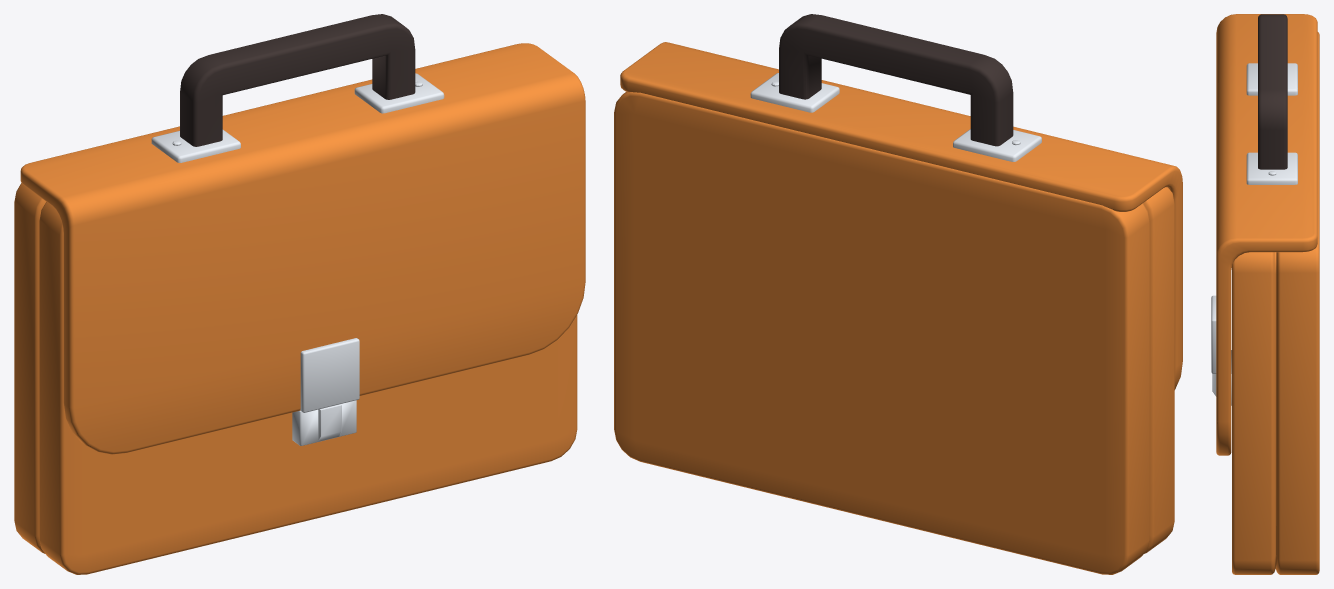
Rendered from briefcase.glb.
3 views of the same model, side by side, from view 1: azimuth 30°, elevation 25°; view 2: azimuth 150°, elevation 25°; view 3: azimuth 270°, elevation 25° (orthographic). The views are drawn at different scales.
Visible parts, largest first — view 1: SM_WorkerBag; view 2: SM_WorkerBag; view 3: SM_WorkerBag.
Part boxes in pixels (<box>): SM_WorkerBag: <box>14,14,585,574</box>; SM_WorkerBag: <box>614,14,1182,574</box>; SM_WorkerBag: <box>1211,14,1319,574</box>.
Size of the model in its own units: 35.75 by 30.56 by 7.18.
